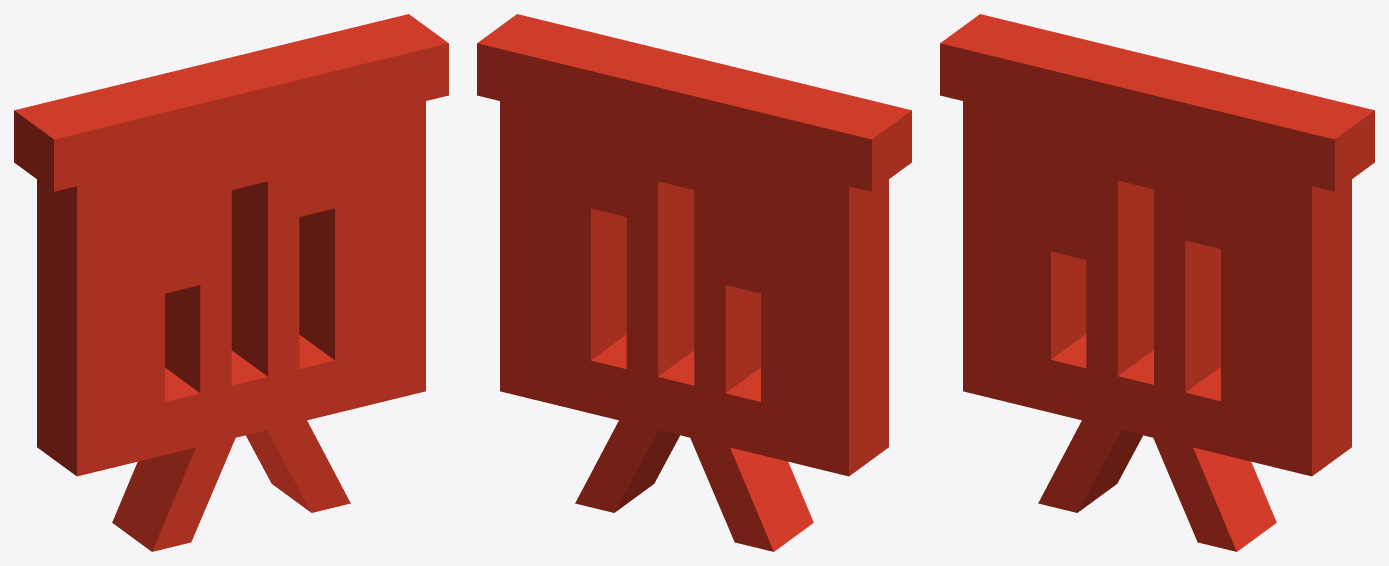
File: Icon_Chart_06.fbx
The picture shows the model from 3 angles, left to right: view 1: azimuth 30°, elevation 25°; view 2: azimuth 150°, elevation 25°; view 3: azimuth 330°, elevation 25°; orthographic projection.
Parts seen in each view (by area): view 1: Icon_Chart_06; view 2: Icon_Chart_06; view 3: Icon_Chart_06.
Part boxes in pixels (left/top/right/bottom): Icon_Chart_06: left=14, top=14, right=448, bottom=551; Icon_Chart_06: left=477, top=14, right=911, bottom=551; Icon_Chart_06: left=940, top=14, right=1374, bottom=551.
Bounding box in the file's own units: 68.79 × 72.67 × 12.06.
